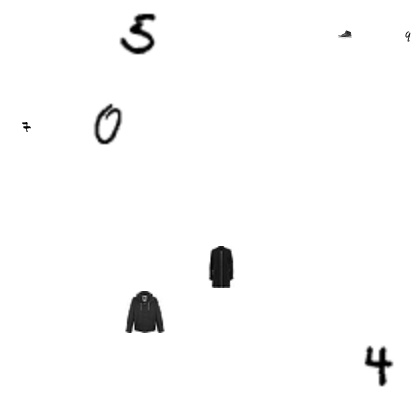0: (78, 96, 134, 152)
4: (349, 334, 405, 390)
5: (112, 6, 168, 62)
7: (19, 119, 33, 133)
9: (401, 29, 415, 43)
Coat: (124, 291, 166, 333), (200, 246, 242, 288)
Sneaker: (338, 27, 352, 41)
